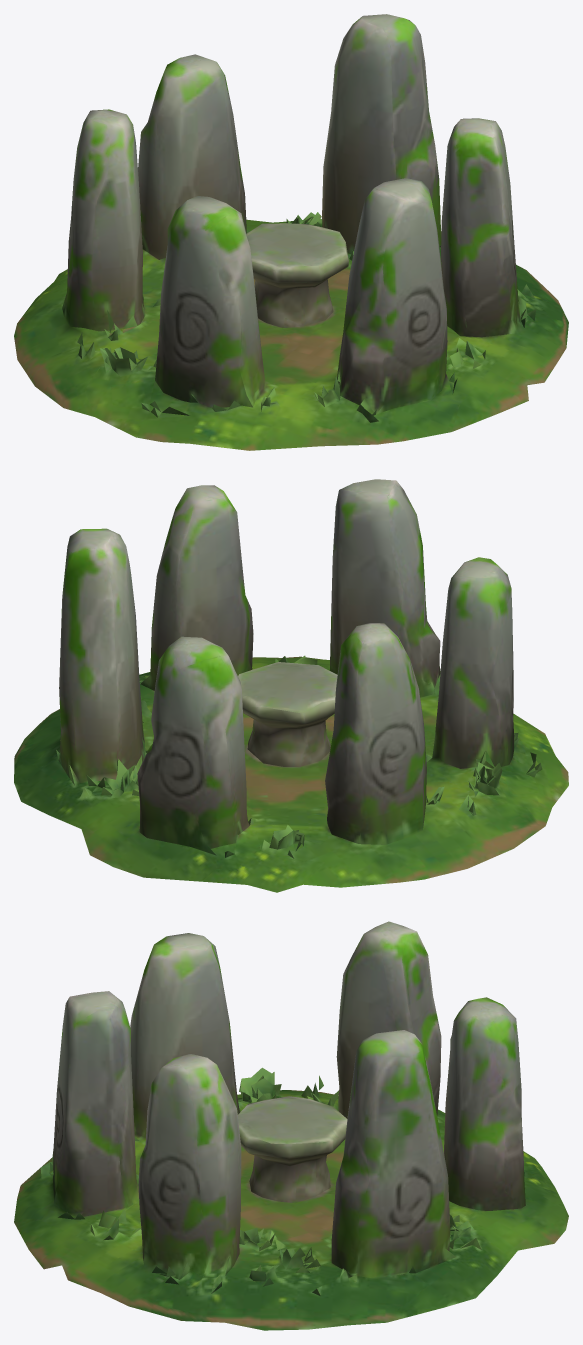
The model's file is standing_stones.glb.
3 views of the same model, one above another, from view 1: azimuth 30°, elevation 25°; view 2: azimuth 150°, elevation 25°; view 3: azimuth 270°, elevation 25° (orthographic).
Parts seen in each view (by area): view 1: world; view 2: world; view 3: world.
Part boxes in pixels (box(x1,y1,x2,y2)): world: box(14, 14, 568, 450); world: box(14, 479, 568, 892); world: box(14, 921, 568, 1330).
Bounding box in the file's own units: 0.9929 × 0.4869 × 0.9842.
Materials: 1 (1 with a texture image).
